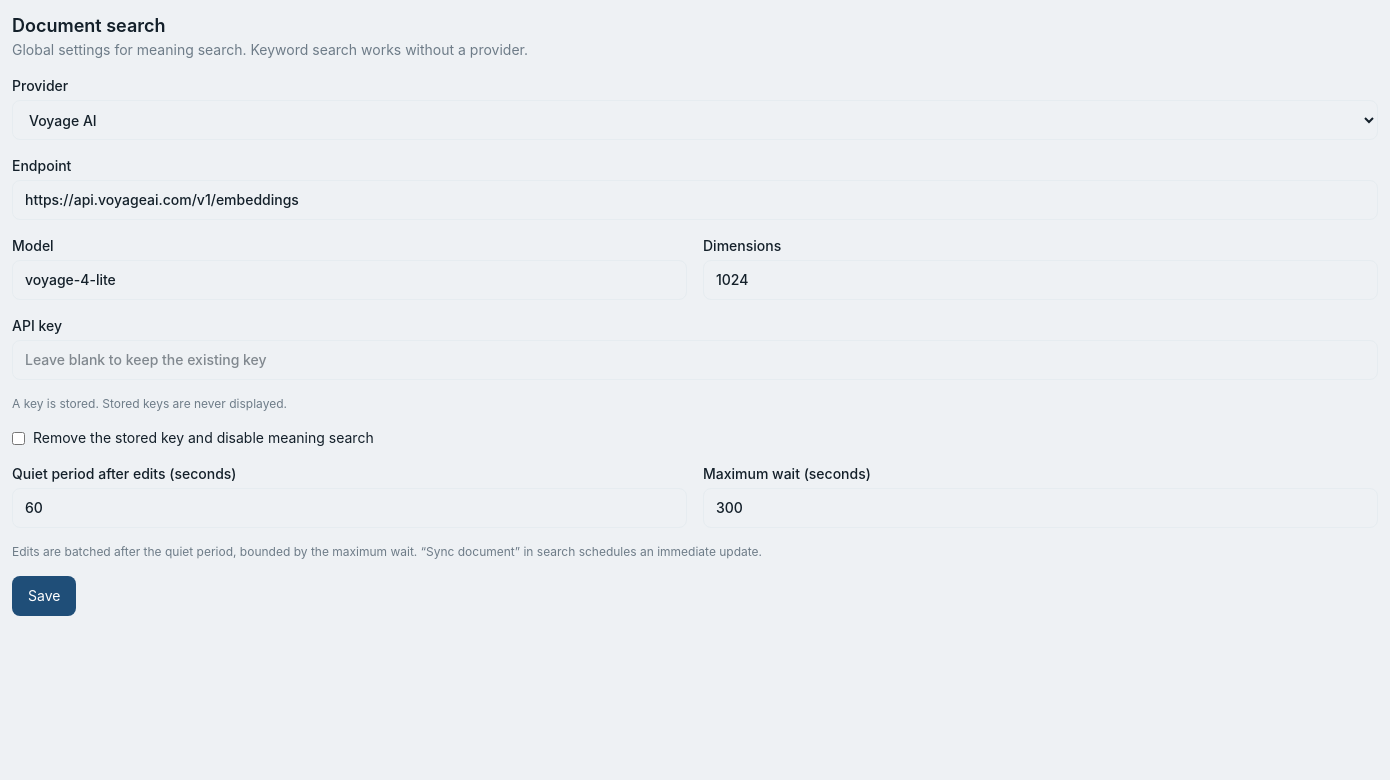
it: retains an unchanged credential by omission, sends replacement write-only then clears input
The width and height of the screenshot is (1390, 780).
Expected: the password field labelled "API key" is empty, [12,340,1378,380]
Click the button "Save": (44, 596) [12,576,76,616]
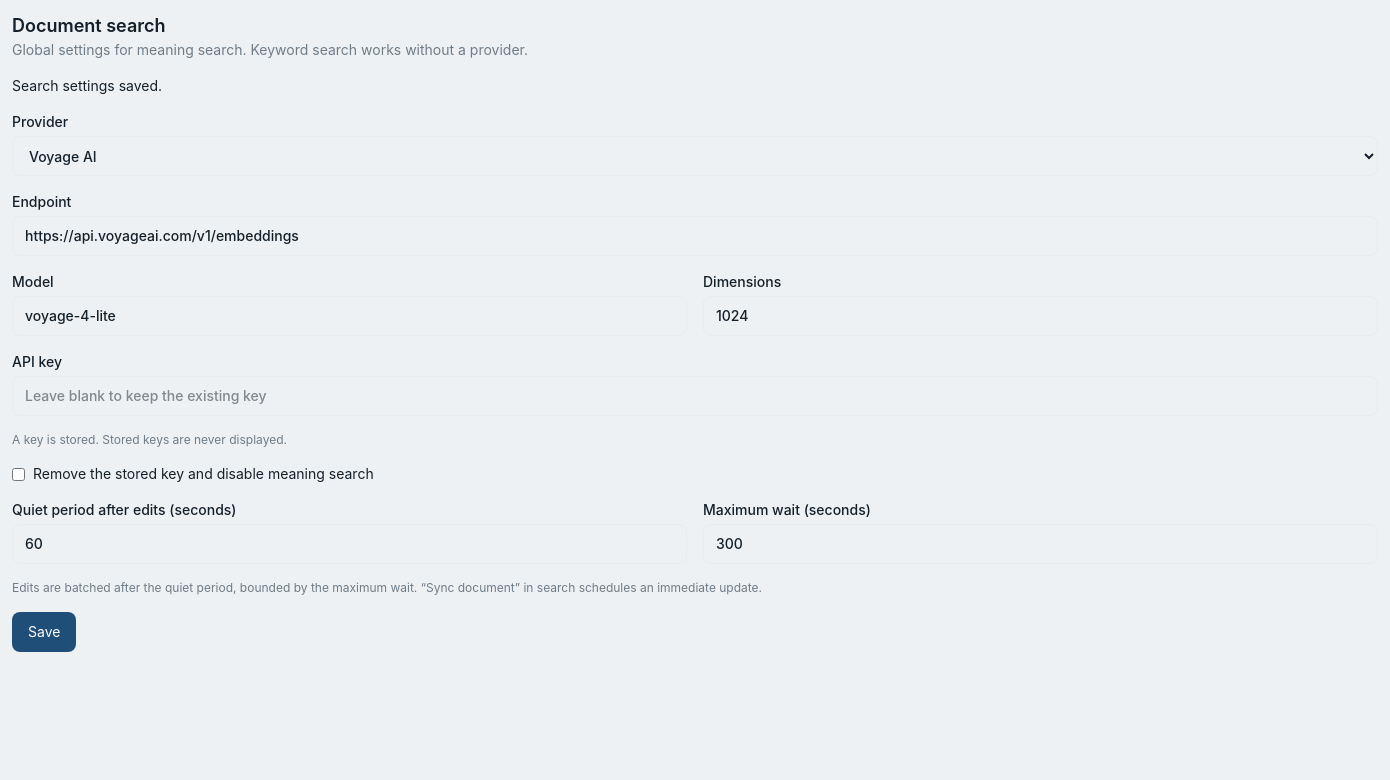
Result: the text "Search settings saved." is shown at [12,77,162,94]
In the password field labelled "API key": (695, 396) [12,376,1378,416], type "test-secret"
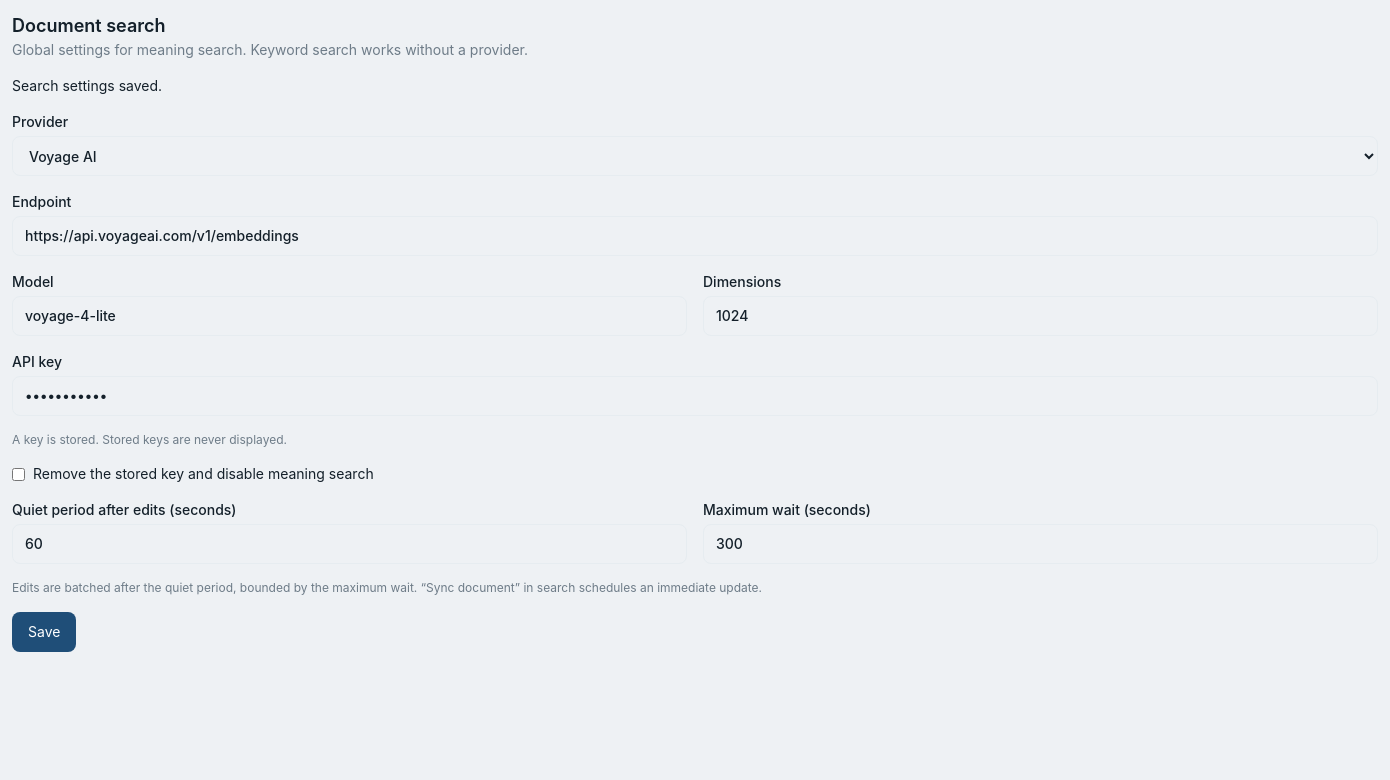
Click the button "Save": (44, 632) [12,612,76,652]
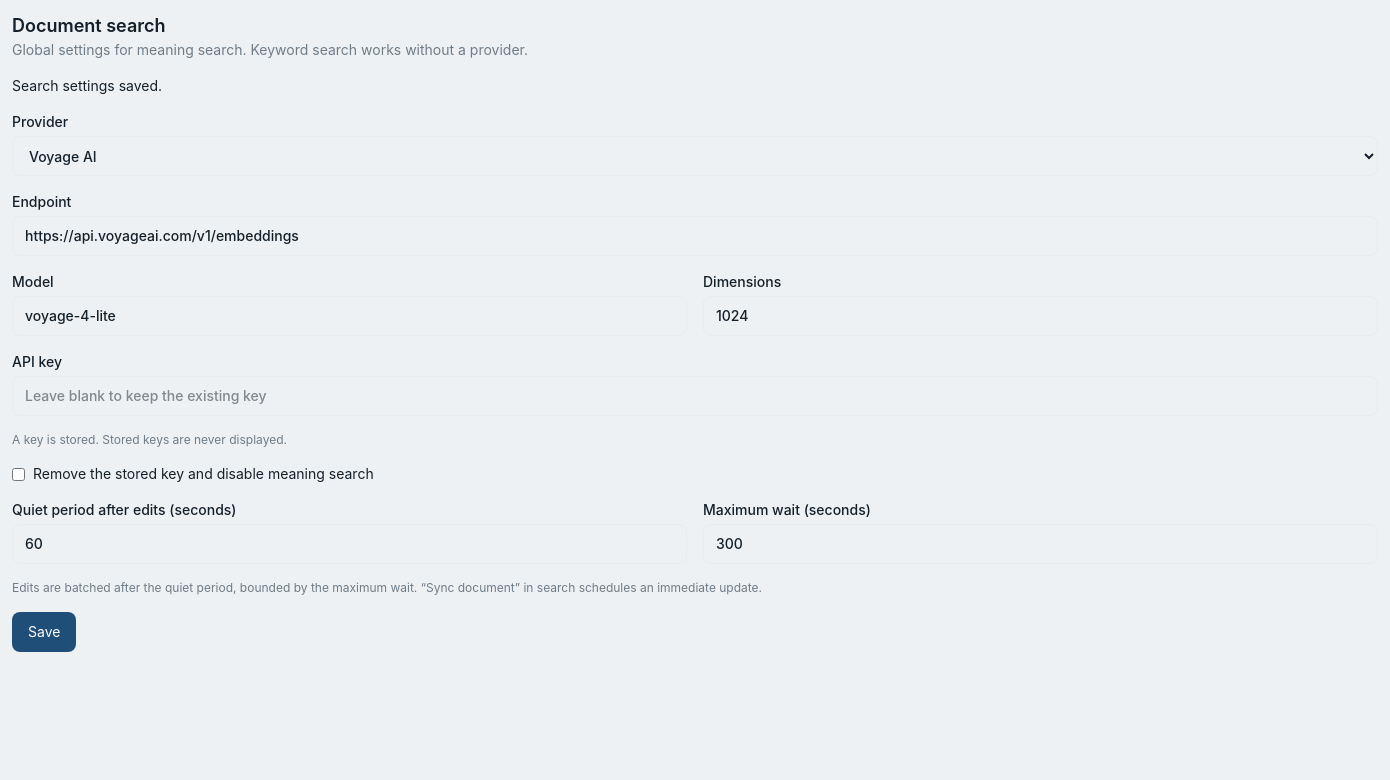
Result: the password field labelled "API key" is empty at [12,376,1378,416]
Select "OpenAI / compatible provider" in the dropdown labelled "Provider": (695, 156) [12,136,1378,176]
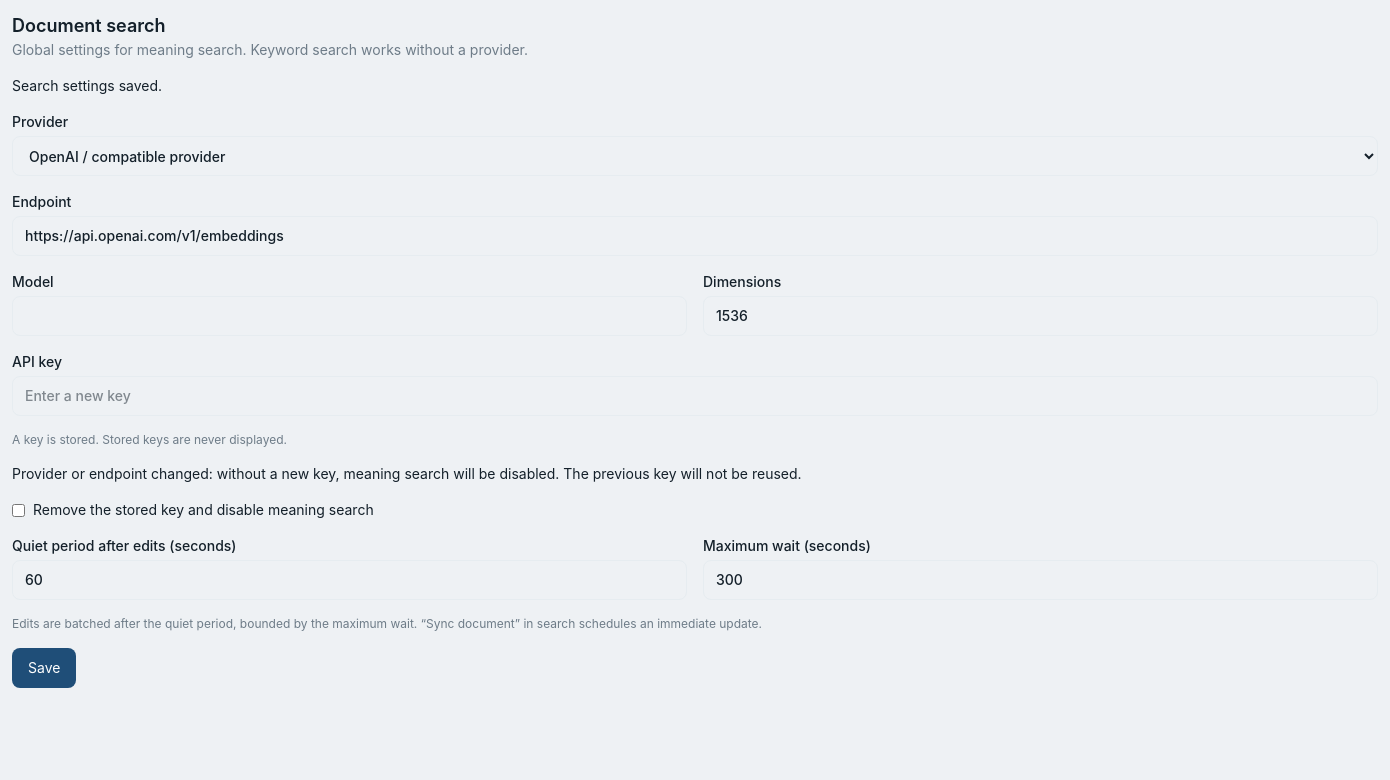
Result: the text "previous key will not be reused" is shown at [12,465,802,482]
